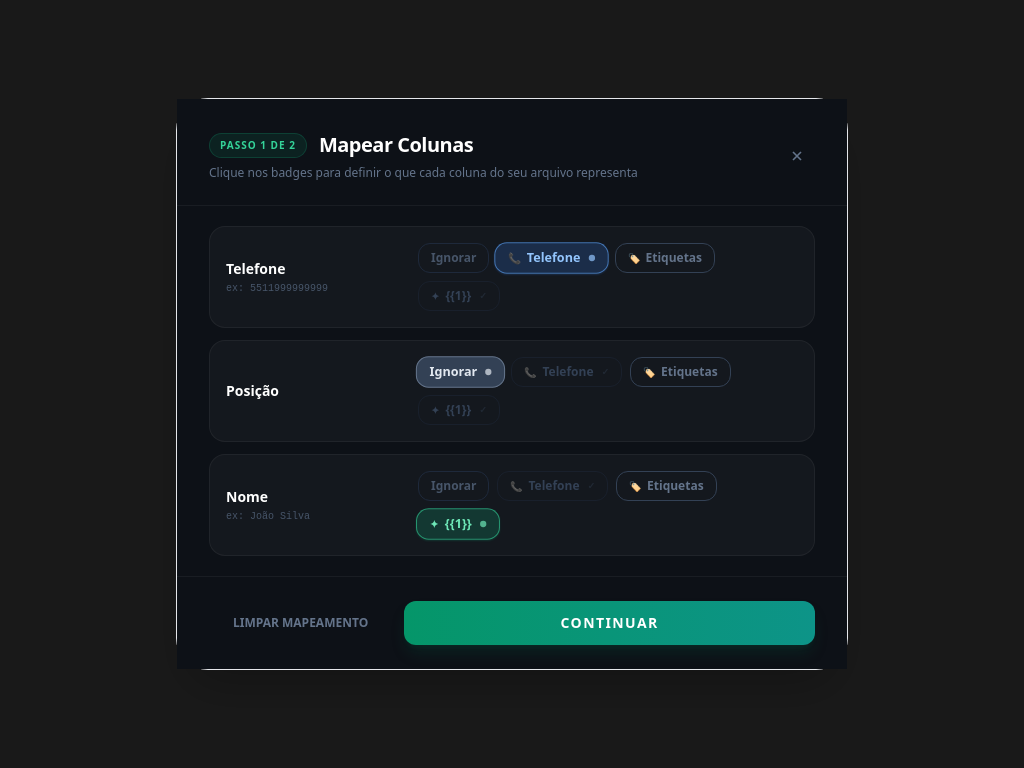
Test: ColumnSelectorModal Component › deve avançar para o Passo 2 quando as colunas mapeadas tiverem dados válidos
The image size is (1024, 768).
Step 1. Click the button "Continuar" → click(610, 623), box [404, 601, 815, 645]
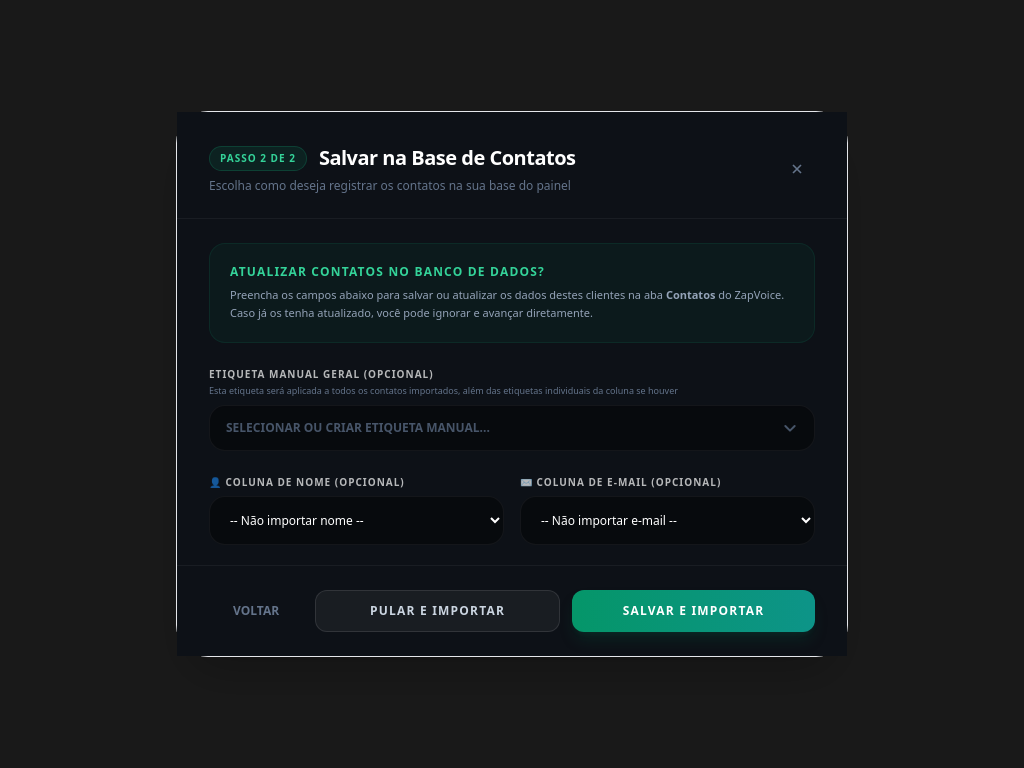
Expected: the text "Passo 2 de 2" is shown, [209, 146, 307, 171]
Expected: the heading "Salvar na Base de Contatos" is shown, [319, 144, 575, 172]
